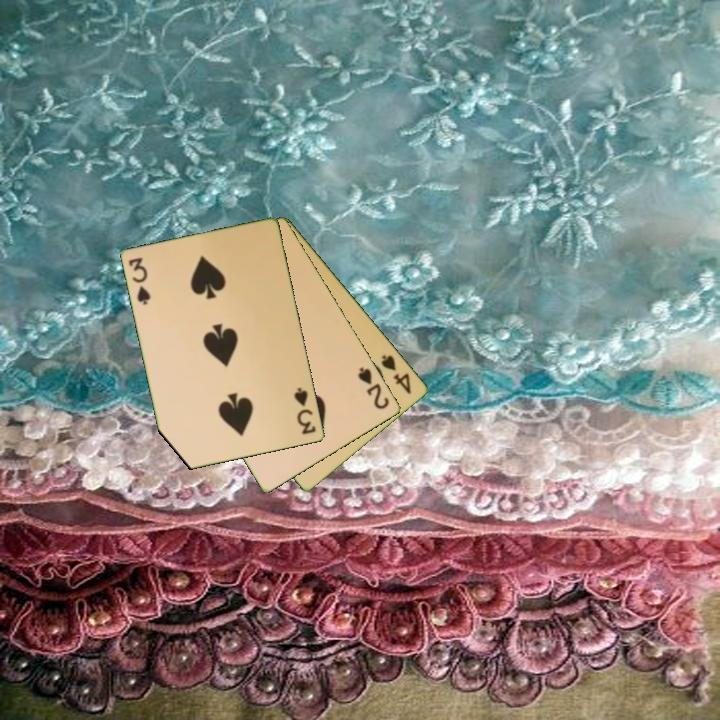2s: (355, 364, 393, 412)
3s: (291, 384, 319, 438), (126, 254, 154, 308)
4s: (378, 351, 415, 397)
